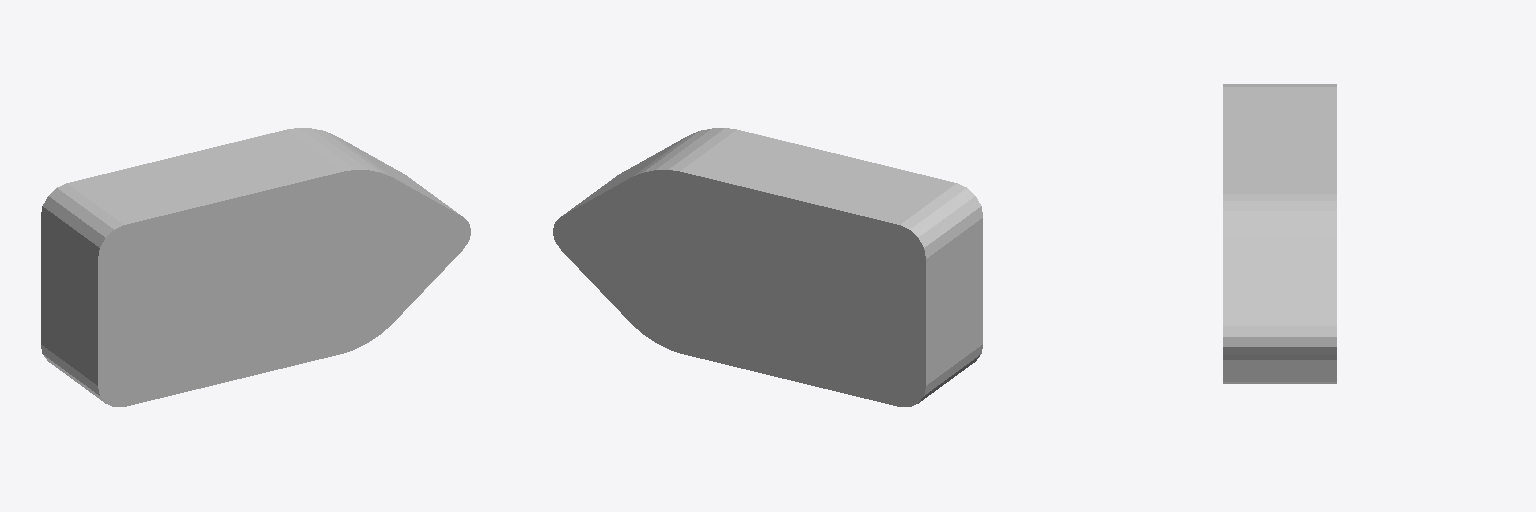
File: Arrow_10.obj
3 renders of one model, left to right at view 1: azimuth 30°, elevation 25°; view 2: azimuth 150°, elevation 25°; view 3: azimuth 270°, elevation 25°, orthographic.
Parts seen in each view (by area): view 1: Arrow_10; view 2: Arrow_10; view 3: Arrow_10.
Boxes of the visible parts, <box> form: Arrow_10: <box>41,128,470,406</box>; Arrow_10: <box>553,128,982,406</box>; Arrow_10: <box>1223,84,1336,383</box>.
Bounding box in the file's own units: 2.74 × 1.28 × 0.728.